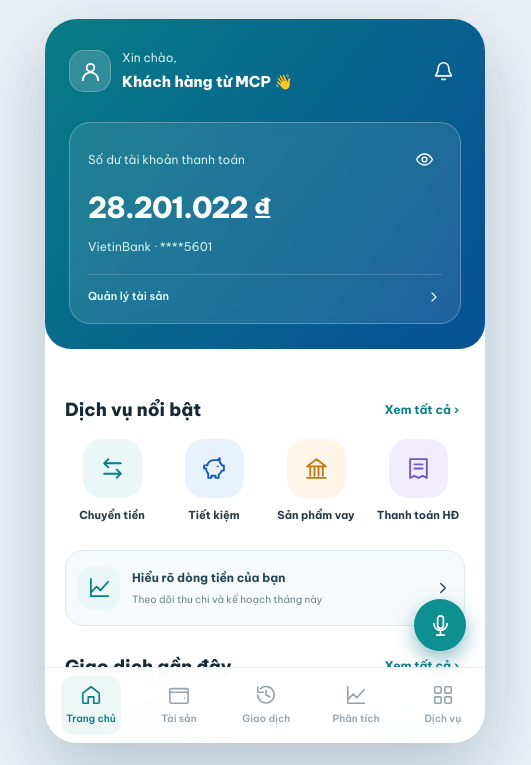
Test: refreshes payment, savings, loan and transaction data together
Click the button "Tài sản" at (179, 706), box [153,676,205,735]
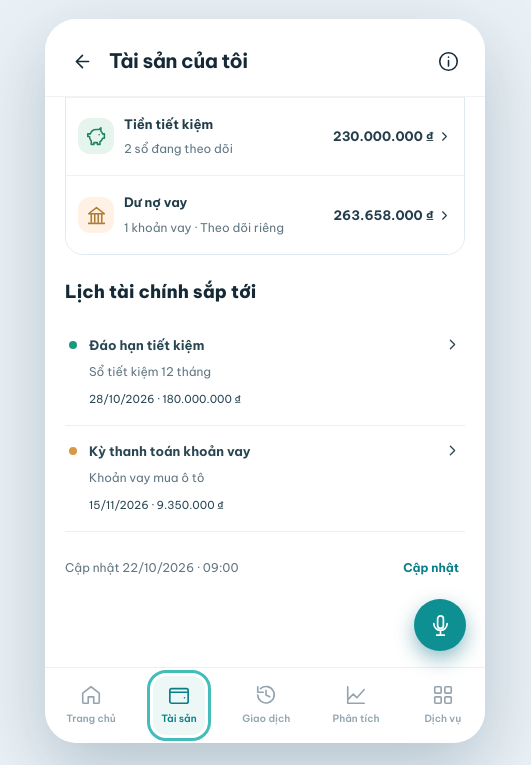
Click the button "Cập nhật" at (431, 568), box [397,557,465,578]
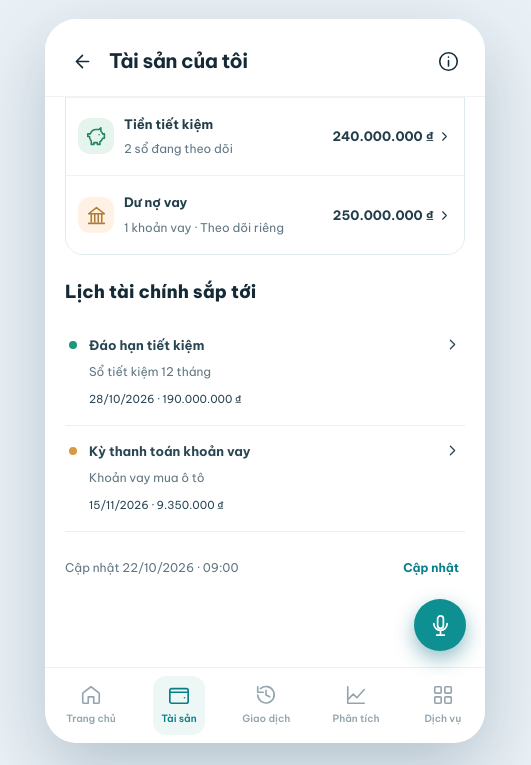
Check: the text "250.000.000 ₫" is shown 2 times
Check: the text "240.000.000 ₫" is shown, box [332,126,452,147]
Click the button "Trang chủ" at (91, 706), box [61,676,121,735]
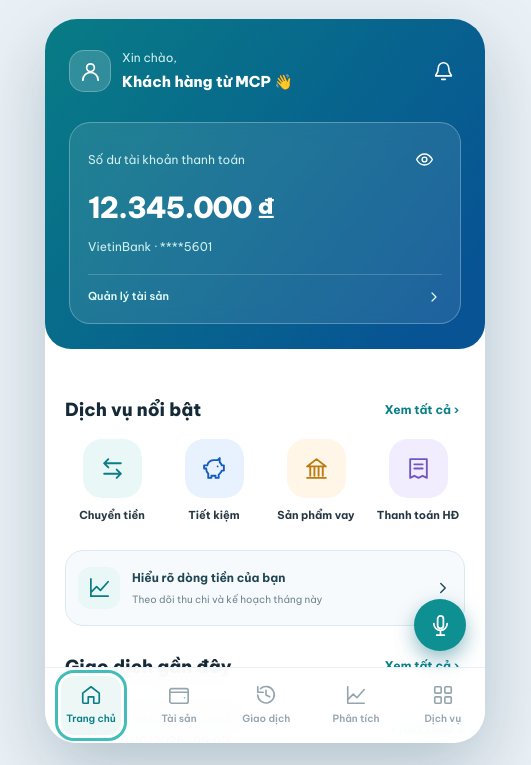
Check: the text "Giao dịch mới từ BE" is shown, box [116,709,243,725]
